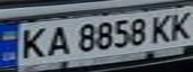5: (112, 17, 133, 48)
8: (127, 15, 151, 47), (93, 18, 115, 52), (75, 20, 96, 53)
A: (42, 23, 72, 57)
K: (15, 25, 51, 61), (148, 12, 178, 44), (166, 7, 193, 40)
